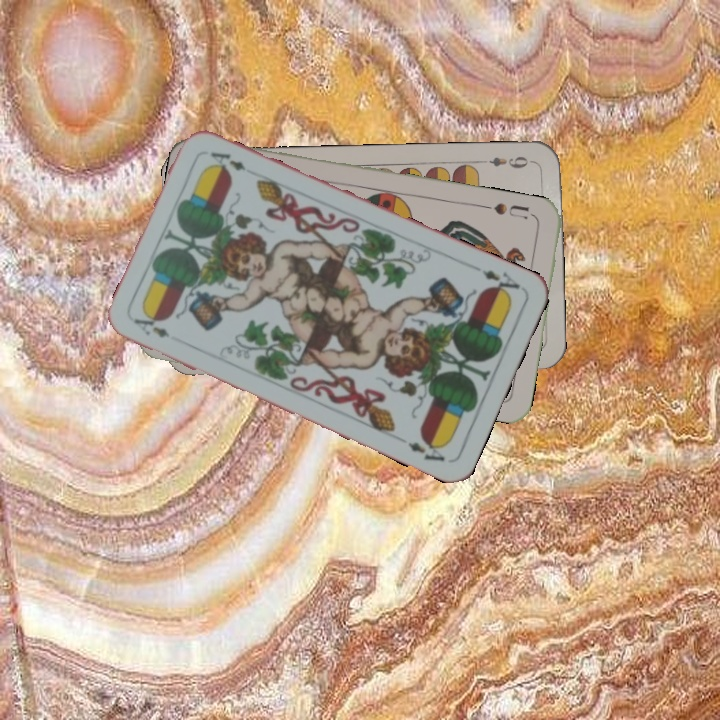E9: (485, 152, 535, 171)
EA: (478, 265, 523, 299), (130, 314, 172, 341)
SU: (490, 198, 539, 223)
